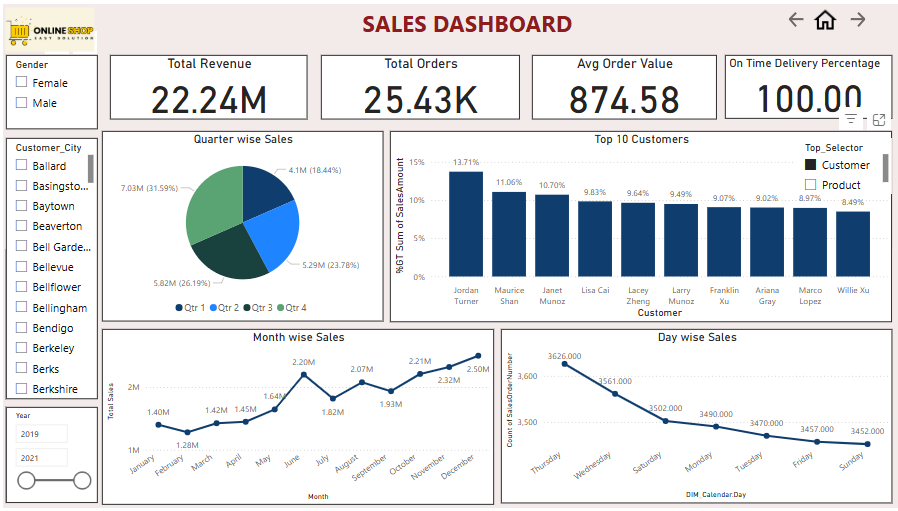

This screenshot's page, from the dashboard's own definition file:
{"tool":"powerbi","page":{"name":"Sales_DashBoard","canvas":[1280,720],"ordinal":1},"visuals":[{"type":"card","title":"Total Revenue","fields":{"Values":["Sum(Sales_table.SalesAmount)"]},"box":[154.1,73.4,282.2,92.2],"z":0},{"type":"card","title":"Total Orders","fields":{"Values":["Count(Sales_table.SalesOrderNumber)"]},"box":[455,73.4,283.7,92.2],"z":1000},{"type":"card","title":"Avg Order Value","fields":{"Values":["Sales_table.Average Order Value"]},"box":[756,73.4,263.5,92.2],"z":2000},{"type":"pieChart","title":"Quarter wise Sales","fields":{"Y":["Sum(Sales_table.SalesAmount)"],"Category":["Sales_table.DIM_Calendar.DateKey.Variation.Date Hierarchy.Quarter"]},"box":[142.6,181.4,401.8,272.2],"z":3000},{"type":"lineChart","title":"Month wise Sales","fields":{"Category":["Sales_table.DIM_Calendar.DateKey.Variation.Date Hierarchy.Month"],"Y":["Sales_table.Total Sales"]},"box":[142.6,463.7,560.2,250.6],"z":4000},{"type":"card","title":"On Time Delivery Percentage","fields":{"Values":["Sales_table.OnTimeDeliveryPercentage"]},"box":[1032.9,72.9,238.6,91.4],"z":5000},{"type":"clusteredColumnChart","title":"TOP 10 Products/ Customers ","fields":{"Category":["Sales_table.Full_Name"],"Y":["Sum(Sales_table.SalesAmount)"]},"box":[554.3,181.4,717.1,272.9],"z":5500},{"type":"slicer","fields":{"Values":["Top_Selector.Top_Selector"]},"box":[1134.3,191.4,137.1,80],"z":6000},{"type":"lineChart","title":"Day wise Sales","fields":{"Y":["Count(Sales_table.SalesOrderNumber)"],"Category":["Sales_table.DIM_Calendar.Day"]},"box":[712.9,464.3,558.6,248.6],"z":8000},{"type":"slicer","fields":{"Values":["Sales_table.Gender"]},"box":[5.7,72.9,131.4,105.7],"z":9000},{"type":"slicer","fields":{"Values":["Sales_table.Customer_City"]},"box":[5.7,191.4,131.4,372.9],"z":10000},{"type":"slicer","fields":{"Values":["Sales_table.DIM_Calendar.Date.Variation.Date Hierarchy.Year"]},"box":[5.7,575.7,131.4,137.1],"z":11000},{"type":"textbox","box":[154.3,0,1021.4,60],"z":12000},{"type":"image","box":[1146.2,0,57.6,46.1],"z":13000},{"type":"actionButton","box":[1118.9,7.2,36,30.2],"z":14000},{"type":"actionButton","box":[1206.7,7.2,44.6,30.2],"z":15000},{"type":"image","box":[0,0,137.1,72.9],"z":16000}]}

Visuals, with their boxes in screenshot pixels (x1, y1, x2, y2), scaled from the page's 1280x720 canvas onto the 898x511 screenshot:
"Total Revenue" card: crop(108, 52, 306, 118)
"Total Orders" card: crop(319, 52, 518, 118)
"Avg Order Value" card: crop(530, 52, 715, 118)
"Quarter wise Sales" pieChart: crop(100, 129, 382, 322)
"Month wise Sales" lineChart: crop(100, 329, 493, 507)
"On Time Delivery Percentage" card: crop(725, 52, 892, 117)
"TOP 10 Products/ Customers " clusteredColumnChart: crop(389, 129, 892, 322)
slicer - Top_Selector.Top_Selector: crop(796, 136, 892, 193)
"Day wise Sales" lineChart: crop(500, 330, 892, 506)
slicer - Sales_table.Gender: crop(4, 52, 96, 127)
slicer - Sales_table.Customer_City: crop(4, 136, 96, 400)
slicer - Sales_table.DIM_Calendar.Date.Variation.Date Hierarchy.Year: crop(4, 409, 96, 506)
textbox: crop(108, 0, 825, 43)
image: crop(804, 0, 845, 33)
actionButton: crop(785, 5, 810, 27)
actionButton: crop(847, 5, 878, 27)
image: crop(0, 0, 96, 52)
